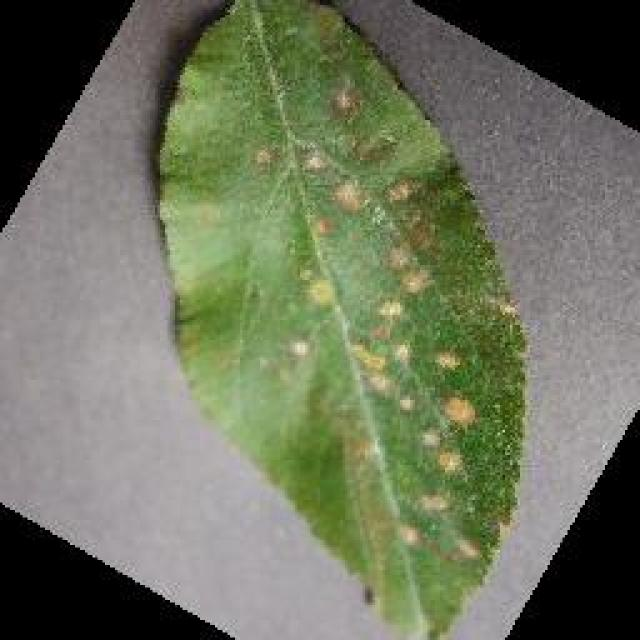apple rust disease: (150, 0, 530, 638)
